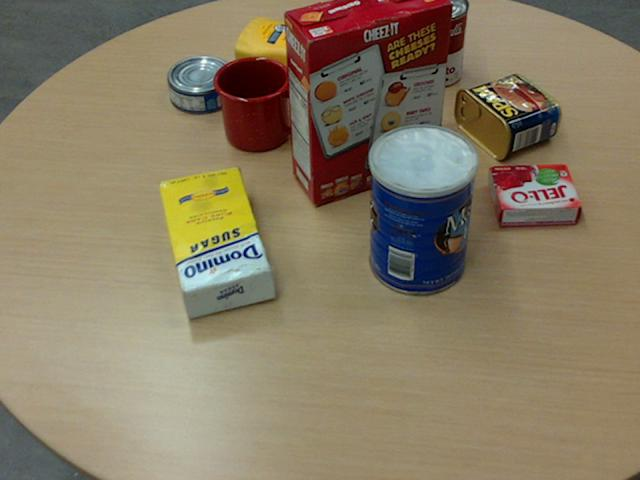cracker_box: (283, 0, 453, 203)
gelatin_box: (488, 162, 580, 223)
large_marker: (386, 28, 406, 117)
master_chef_can: (368, 124, 477, 295)
mug: (212, 55, 310, 150)
mustard_bottle: (234, 15, 384, 86)
potted_meat_can: (453, 73, 560, 159)
sugar_box: (155, 165, 274, 318)
tomato_soup_can: (412, 0, 469, 85)
tuna_fish_can: (166, 54, 234, 111)
